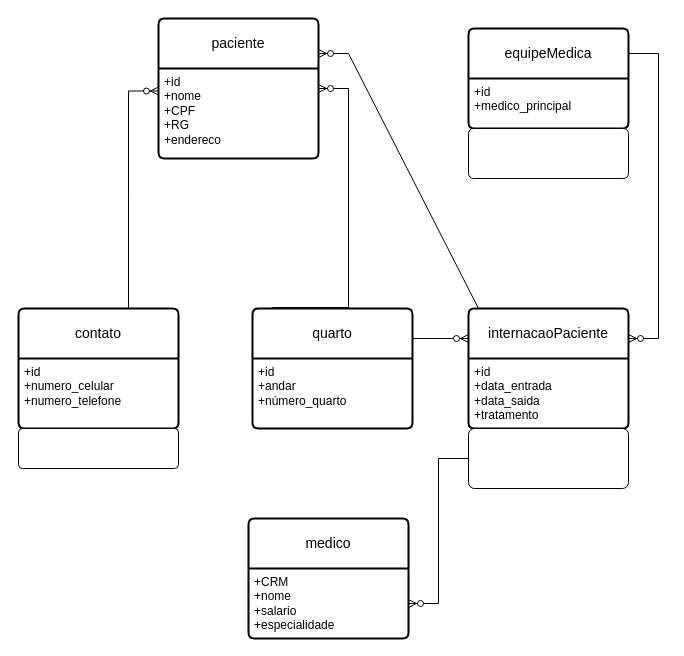
The diagram is 684 pixels wide and 656 high, and some of its shapes have lost their labels. Here are the shapes that lost their labels. From the top down, the centre of each, then its label:
the point at 548,153: +id_medico +id_internacaoPaciente
the point at 98,448: id_paciente
the point at 548,458: +id_paciente +id_quarto +id_equipeMedica
